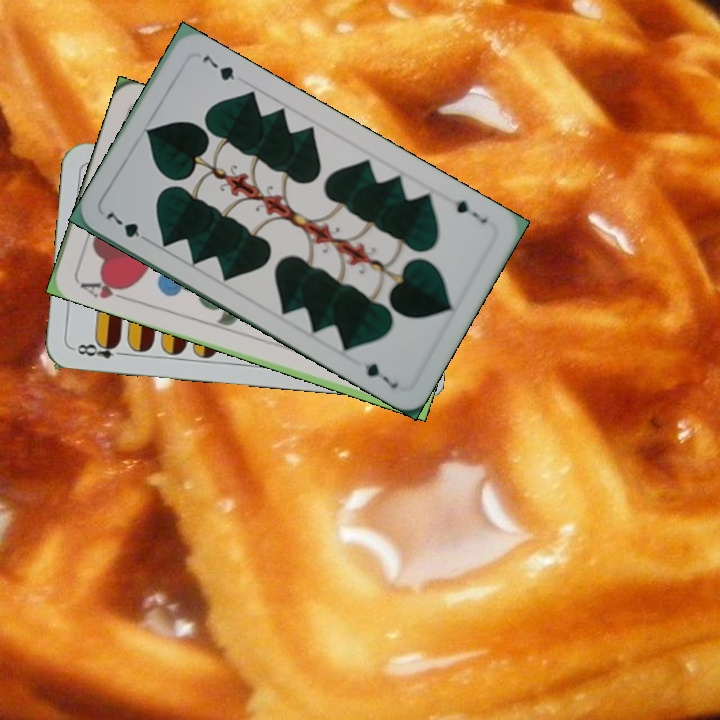E8: (70, 337, 129, 361)
G7: (101, 208, 153, 244), (451, 196, 491, 227)
HA: (76, 274, 132, 304)
